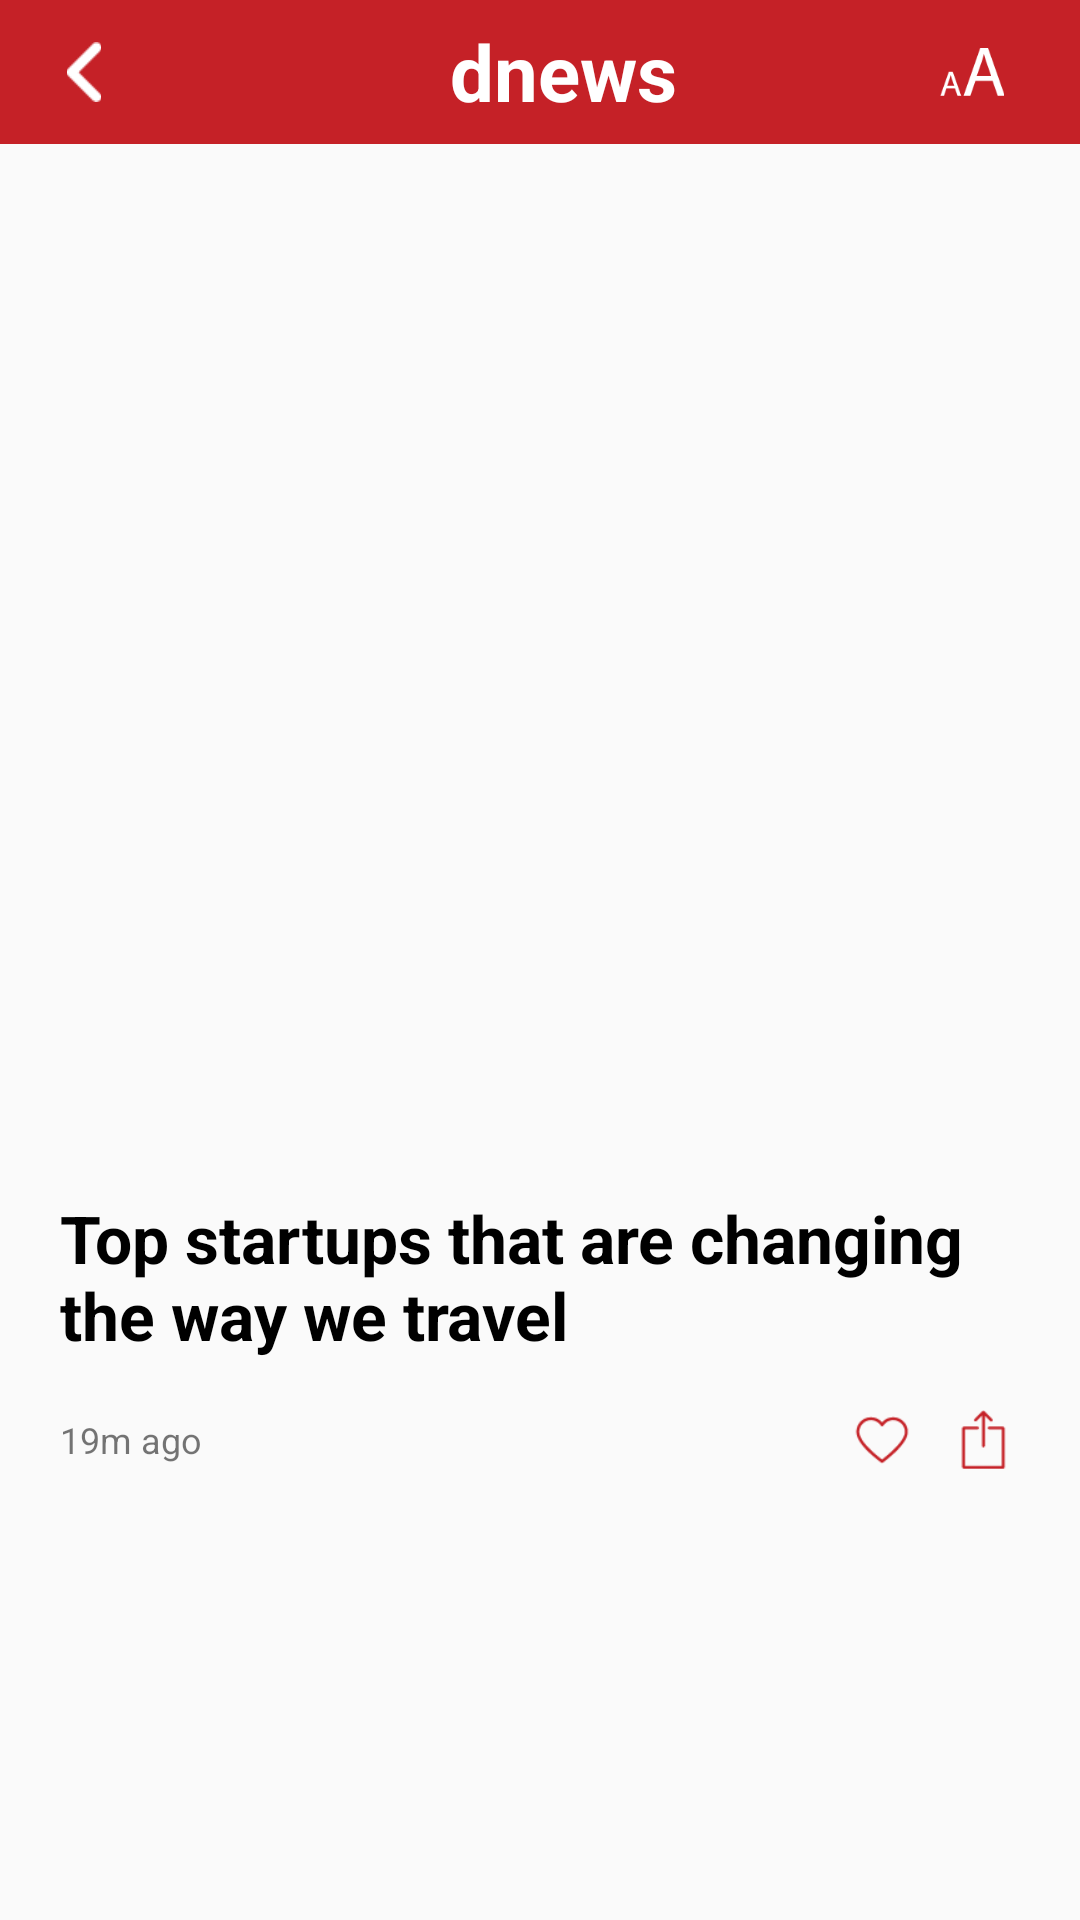

Icons on this 1080 × 1920 Android screen, each with its box as (x1, y1, x2, y2):
back: (67, 42, 101, 102)
fontsize: (940, 48, 1004, 96)
like: (855, 1416, 909, 1463)
